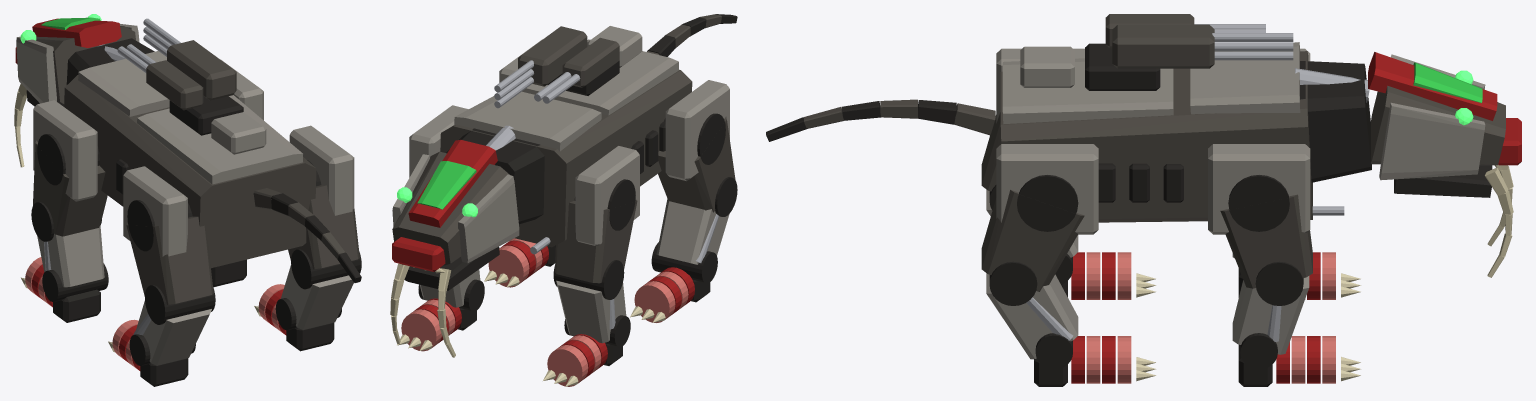
The model's file is zaber-fang.glb.
The picture shows the model from 3 angles, left to right: view 1: azimuth 30°, elevation 25°; view 2: azimuth 150°, elevation 25°; view 3: azimuth 270°, elevation 25°; orthographic projection. The views are drawn at different scales.
Parts seen in each view (by area): view 1: core (×3), leftRearLeg (×5), leftFrontLeg (×4), rightRearLeg (×5), backMount (×4), head (×4), tail (×2), rightFrontLeg (×2), headWeapon; view 2: core (×4), leftRearLeg (×5), leftFrontLeg (×5), head (×6), backMount (×4), rightFrontLeg (×4), rightRearLeg (×2), headWeapon, tail (×2); view 3: core (×4), rightRearLeg (×5), rightFrontLeg (×5), head (×5), backMount (×4), leftRearLeg (×4), tail (×2), headWeapon, leftFrontLeg.
Boxes of the visible parts, bbox=[...] form: core (×3): bbox=[64, 38, 316, 268]; leftRearLeg (×5): bbox=[112, 166, 215, 386]; leftFrontLeg (×4): bbox=[25, 100, 108, 322]; rightRearLeg (×5): bbox=[258, 125, 361, 351]; backMount (×4): bbox=[117, 18, 266, 154]; head (×4): bbox=[15, 17, 139, 103]; tail (×2): bbox=[253, 188, 361, 282]; rightFrontLeg (×2): bbox=[211, 60, 263, 287]; headWeapon: bbox=[14, 83, 26, 167]; core (×4): bbox=[440, 39, 692, 247]; leftRearLeg (×5): bbox=[634, 80, 737, 322]; leftFrontLeg (×5): bbox=[547, 146, 639, 386]; head (×6): bbox=[392, 139, 519, 290]; backMount (×4): bbox=[494, 26, 642, 108]; rightFrontLeg (×4): bbox=[401, 105, 484, 351]; rightRearLeg (×2): bbox=[488, 238, 548, 287]; headWeapon: bbox=[390, 263, 455, 357]; tail (×2): bbox=[647, 14, 737, 56]; core (×4): bbox=[1000, 42, 1371, 222]; rightRearLeg (×5): bbox=[981, 144, 1131, 386]; rightFrontLeg (×5): bbox=[1208, 144, 1335, 386]; head (×5): bbox=[1368, 52, 1521, 197]; backMount (×4): bbox=[1020, 14, 1293, 90]; leftRearLeg (×4): bbox=[981, 48, 1131, 299]; tail (×2): bbox=[766, 99, 995, 141]; headWeapon: bbox=[1485, 165, 1513, 277]; leftFrontLeg: bbox=[1305, 252, 1335, 299].
Bounding box in the file's own units: 1.77 × 2.32 × 5.04.
